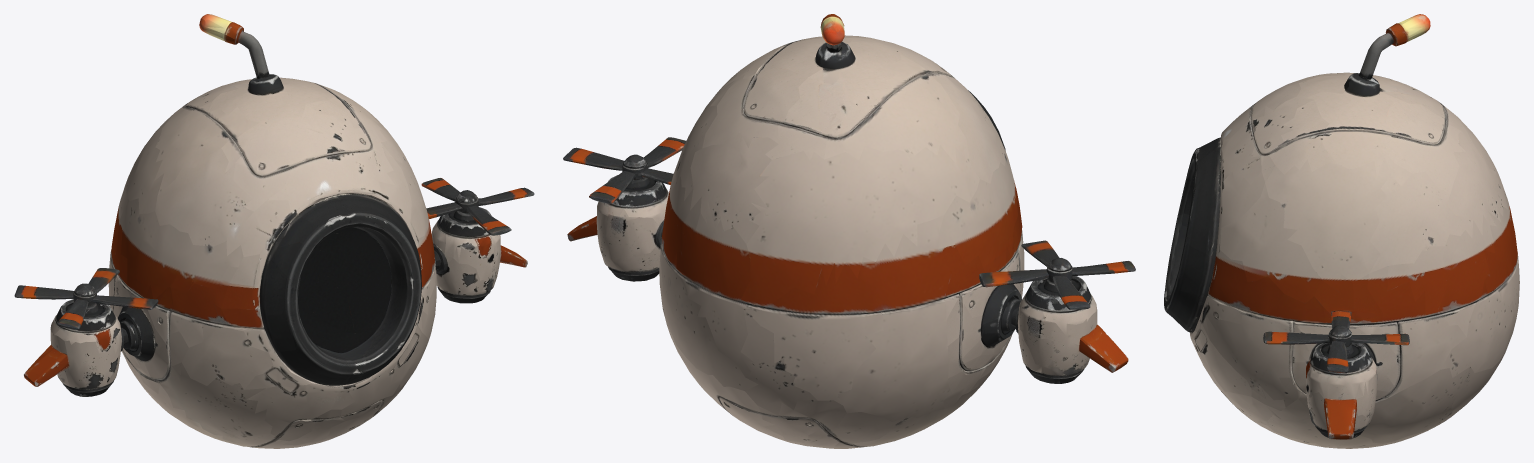
The model's file is dodger_body_old.glb.
3 renders of one model, left to right at view 1: azimuth 30°, elevation 25°; view 2: azimuth 150°, elevation 25°; view 3: azimuth 270°, elevation 25°, orthographic. The views are drawn at different scales.
Parts seen in each view (by area): view 1: dodger; view 2: dodger; view 3: dodger.
Boxes of the visible parts, left/top/right/bottom form: dodger: left=14, top=14, right=534, bottom=448; dodger: left=563, top=14, right=1135, bottom=448; dodger: left=1164, top=14, right=1519, bottom=448.
Size of the model in its own units: 1.1 by 0.8341 by 0.668.
Materials: 1 (1 with a texture image).
